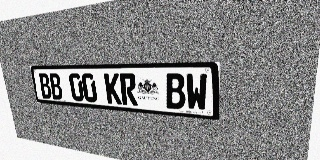0: (81, 73, 98, 103), (68, 73, 84, 102)
B: (165, 73, 186, 110), (48, 73, 63, 100), (38, 73, 53, 99)
K: (104, 73, 122, 105)
R: (119, 73, 138, 106)
W: (185, 73, 208, 111)
